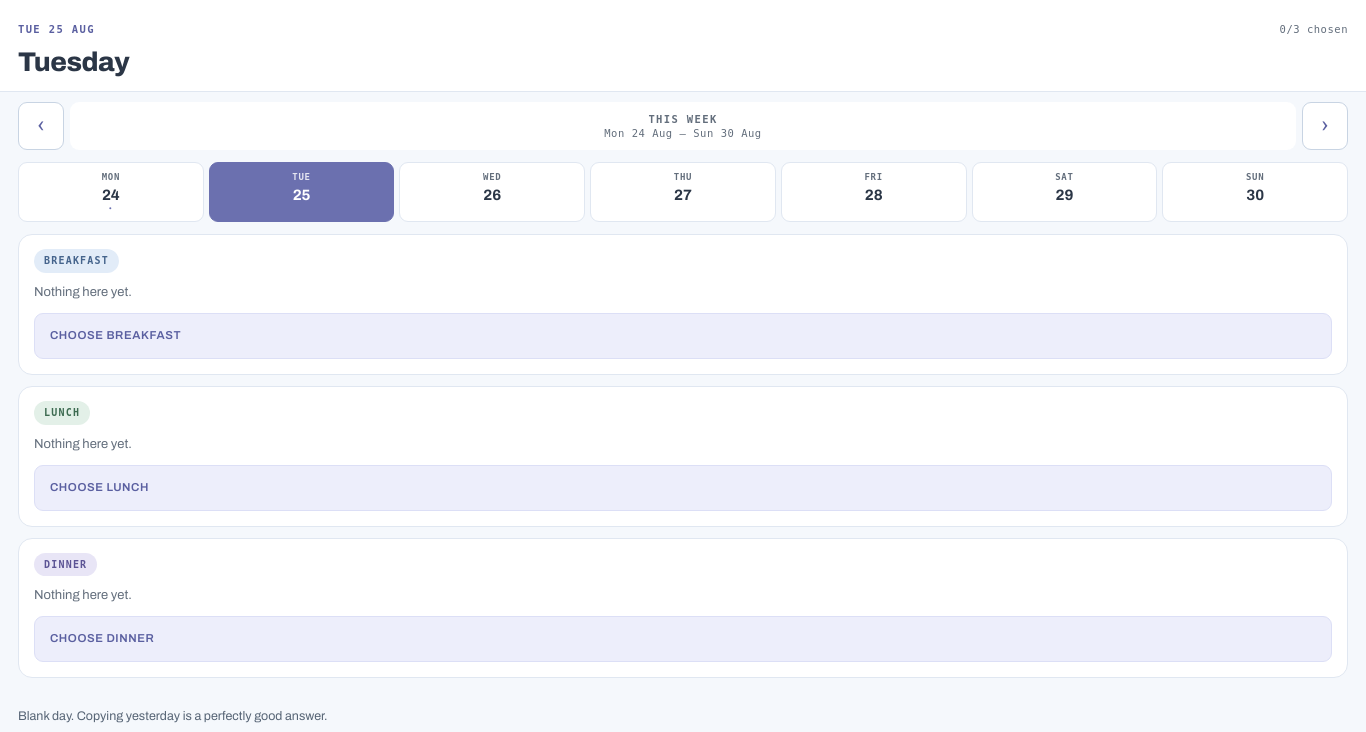
Scenario: Plan › shows a planned meal rather than a Choose button
// Land on Monday so the planned slot is the one on screen.
Click the text "Mon".
click(111, 177)  # box [102,172,120,182]
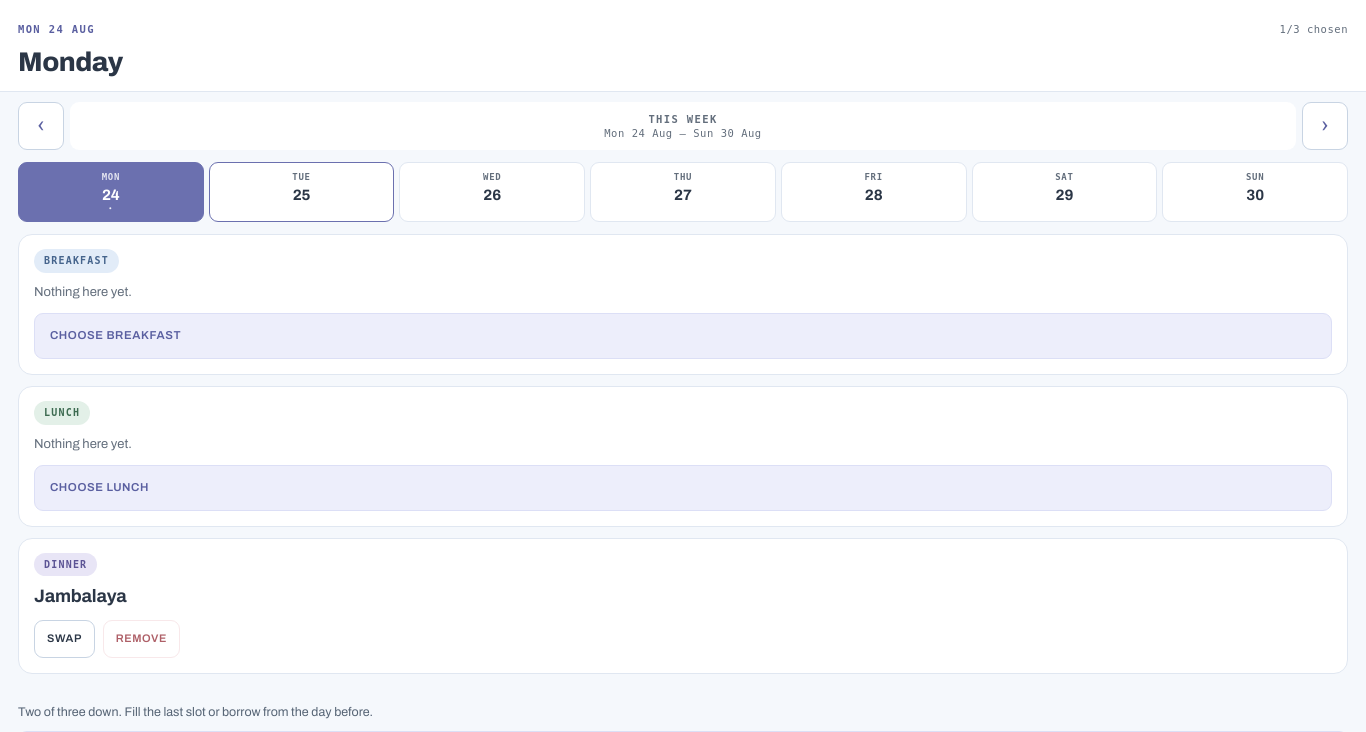
expect the text "Jambalaya" is shown: met, box [34,586,126,606]
expect the button "Choose dinner" is gone: met
